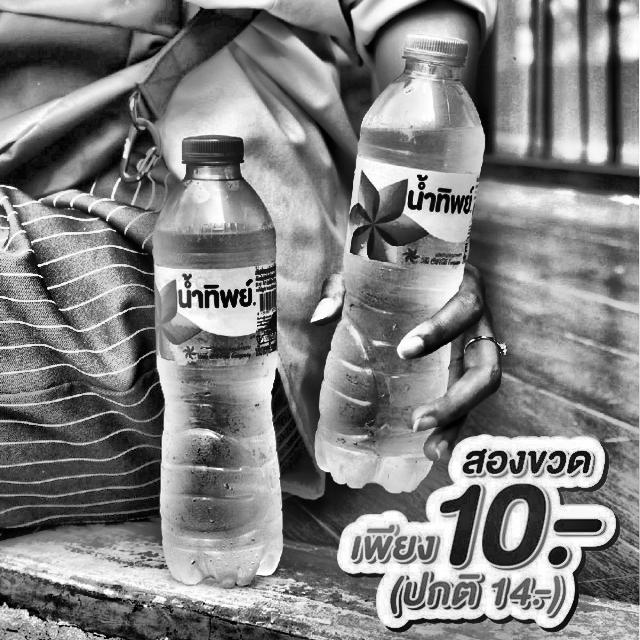waterbottle: (306, 23, 491, 506), (147, 127, 294, 600)
